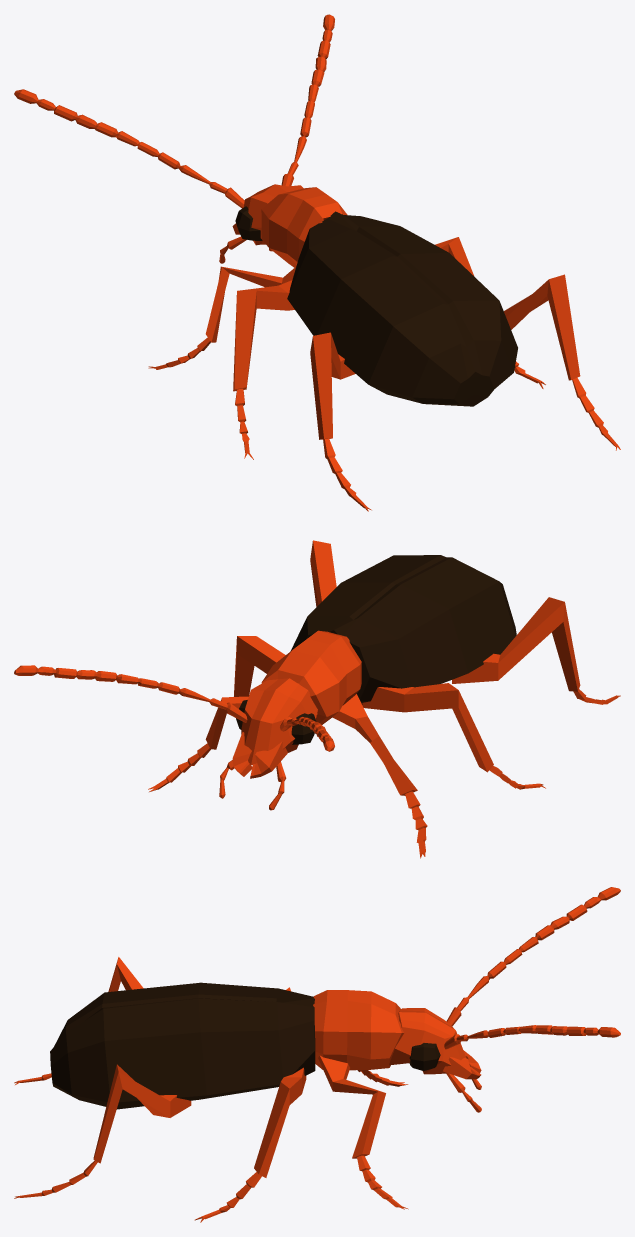
The model's file is Beetle Import.fbx.
3 renders of one model, top to bottom at view 1: azimuth 30°, elevation 25°; view 2: azimuth 150°, elevation 25°; view 3: azimuth 270°, elevation 25°, orthographic. The views are drawn at different scales.
Visible parts, largest first — view 1: Abdomen, Back Legs, Antennae, Thorax, Forelegs, head; view 2: Abdomen, Back Legs, Thorax, head, Forelegs, Antennae, jaws, lft. eye; view 3: Abdomen, Thorax, Back Legs, Antennae, Forelegs, head, rt. eye, jaws.
Boxes of the visible parts, bbox=[...] form: Abdomen: bbox=[287, 211, 517, 406]; Back Legs: bbox=[233, 237, 620, 511]; Antennae: bbox=[14, 14, 334, 263]; Thorax: bbox=[261, 187, 347, 267]; Forelegs: bbox=[148, 266, 296, 369]; head: bbox=[243, 184, 303, 245]; Abdomen: bbox=[290, 555, 516, 704]; Back Legs: bbox=[234, 540, 620, 789]; Thorax: bbox=[261, 630, 361, 724]; head: bbox=[241, 678, 317, 765]; Forelegs: bbox=[148, 694, 427, 858]; Antennae: bbox=[14, 665, 334, 810]; jaws: bbox=[232, 732, 287, 778]; lft. eye: bbox=[291, 713, 316, 744]; Abdomen: bbox=[50, 982, 315, 1109]; Thorax: bbox=[313, 990, 403, 1070]; Back Legs: bbox=[14, 957, 306, 1222]; Antennae: bbox=[444, 887, 620, 1112]; Forelegs: bbox=[318, 1055, 408, 1209]; head: bbox=[389, 1008, 465, 1074]; rt. eye: bbox=[409, 1043, 440, 1070]; jaws: bbox=[443, 1050, 481, 1079].
Bounding box in the file's own units: 199 × 126 × 352.
